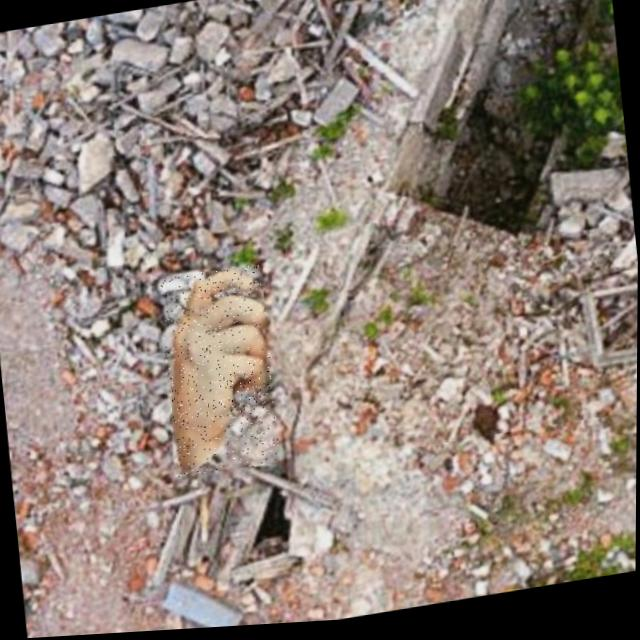Person in Rubble: (157, 263, 282, 481)
